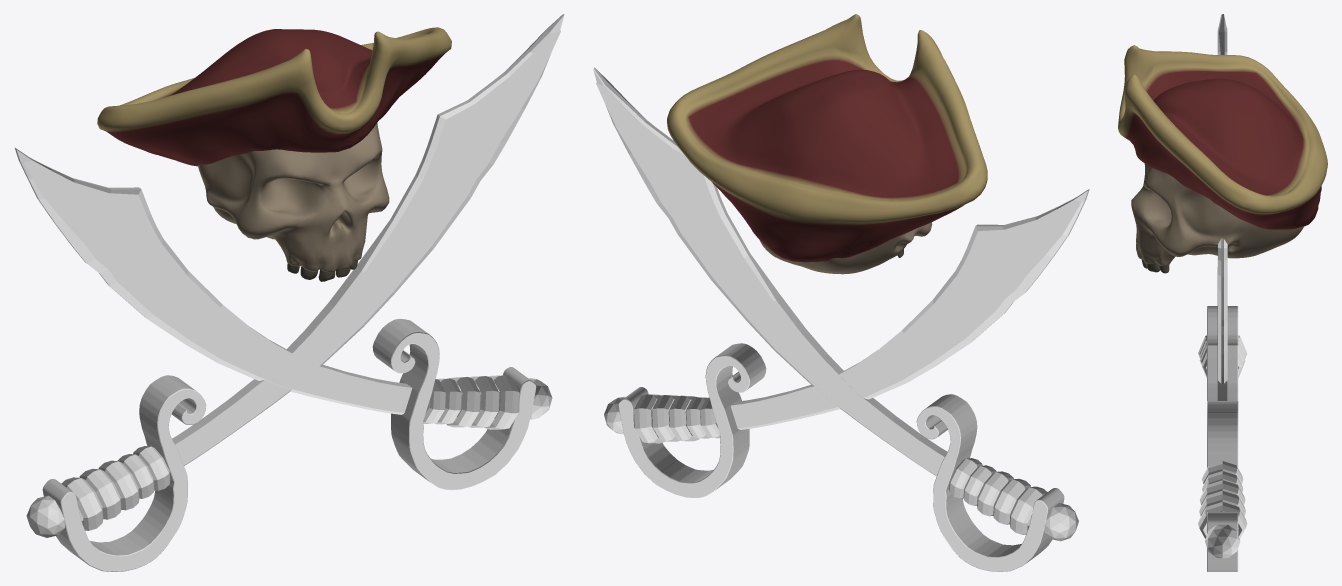
File: 7- Skull Swords.FBX
The picture shows the model from 3 angles, left to right: view 1: azimuth 30°, elevation 25°; view 2: azimuth 150°, elevation 25°; view 3: azimuth 270°, elevation 25°; orthographic projection. The views are drawn at different scales.
Parts seen in each view (by area): view 1: 7- Skull Swords; view 2: 7- Skull Swords; view 3: 7- Skull Swords.
Part boxes in pixels (left/top/right/bottom): 7- Skull Swords: left=15, top=14, right=564, bottom=571; 7- Skull Swords: left=593, top=14, right=1089, bottom=571; 7- Skull Swords: left=1118, top=14, right=1327, bottom=571.
Size of the model in its own units: 424 by 384 by 167.
